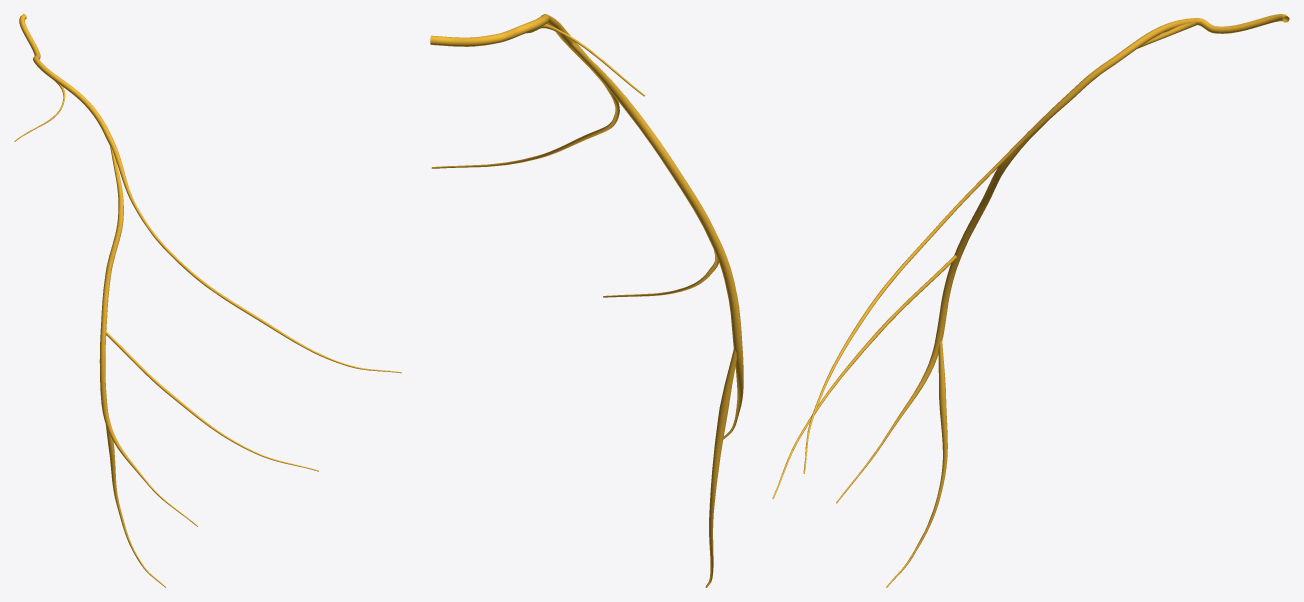
File: nervoso-lateral-pectoral-nerve-r.glb
3 renders of one model, left to right at view 1: azimuth 30°, elevation 25°; view 2: azimuth 150°, elevation 25°; view 3: azimuth 270°, elevation 25°, orthographic. The views are drawn at different scales.
Parts seen in each view (by area): view 1: Lateral pectoral nerve.r; view 2: Lateral pectoral nerve.r; view 3: Lateral pectoral nerve.r.
Boxes of the visible parts, x1,y1,x2,y2 form: Lateral pectoral nerve.r: (14, 14, 401, 587); Lateral pectoral nerve.r: (430, 14, 743, 587); Lateral pectoral nerve.r: (772, 14, 1289, 587).
Size of the model in its own units: 0.1038 by 0.1734 by 0.1398.
